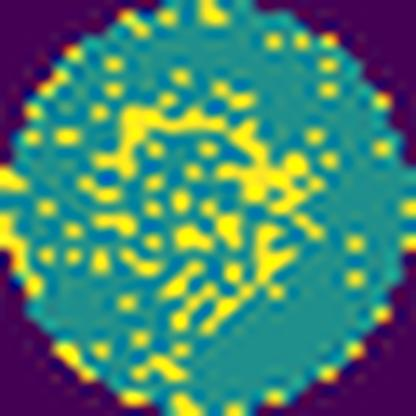Donut: (74, 86, 334, 340)
